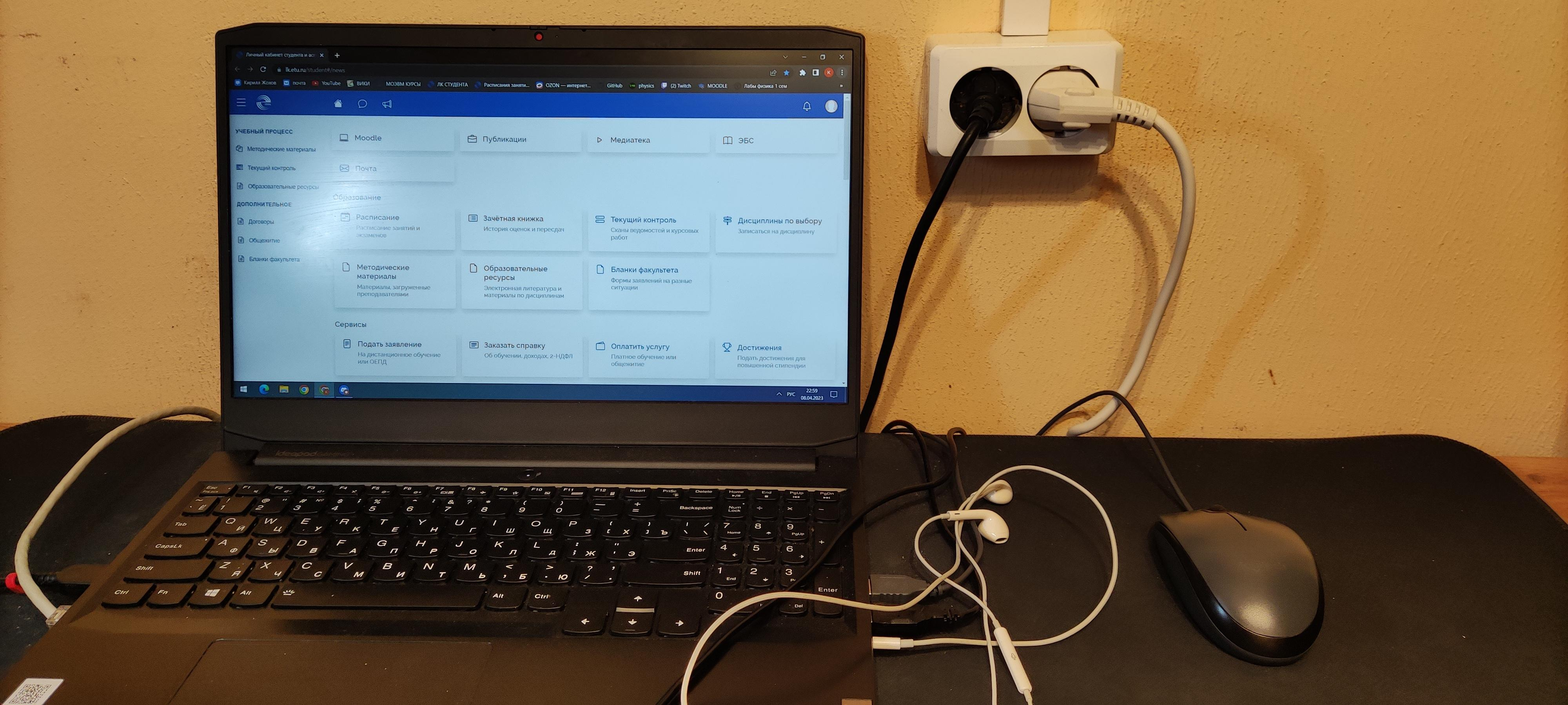monitor: (212, 16, 874, 478)
